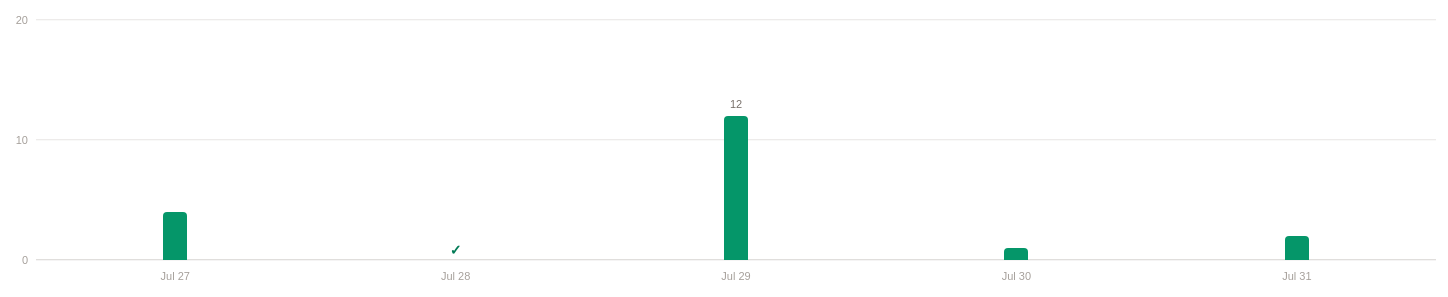
Test: ShortsChart › shows one tooltip at a time
This screenshot has width=1448, height=297.
Hover over the button named "Monday, July 27: 4 Shorts, 4 unique": coordinates (175, 236) [36, 20, 314, 260]
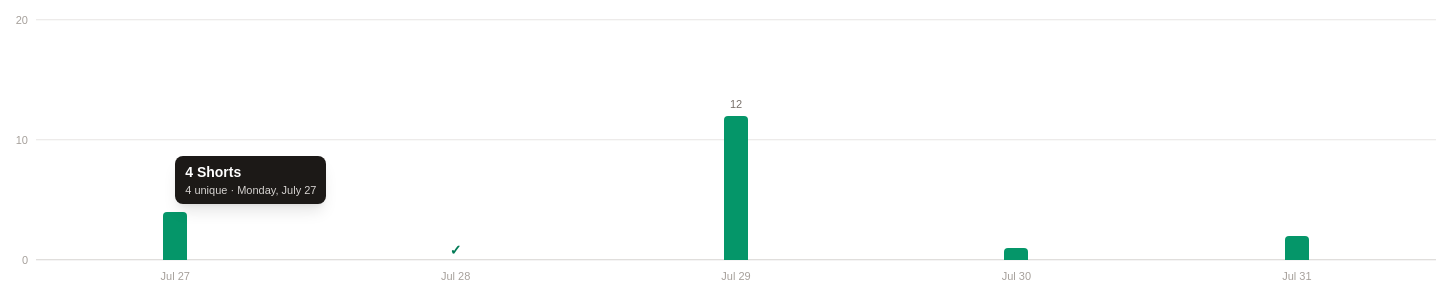
Hover over the button named "Friday, July 31: 2 Shorts, 2 unique": coordinates (1297, 248) [1158, 20, 1436, 260]
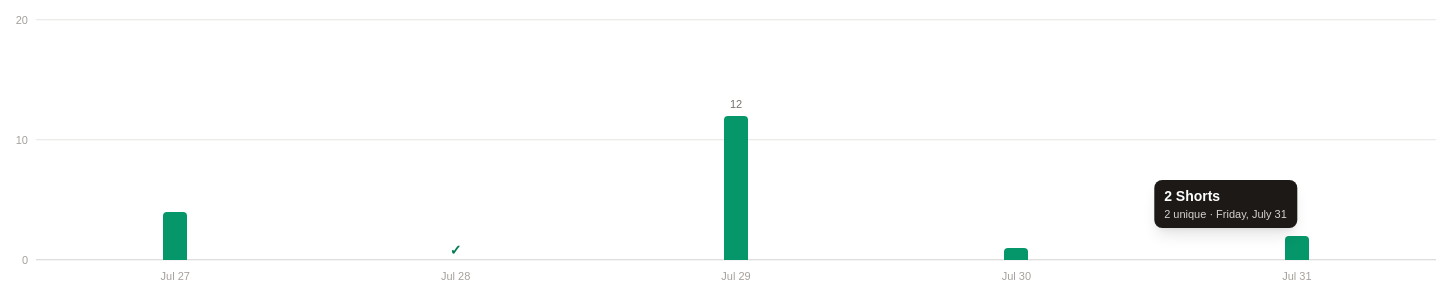
Expected: the text "4 Shorts" is gone
Expected: the text "2 Shorts" is shown, [1164, 188, 1220, 204]
